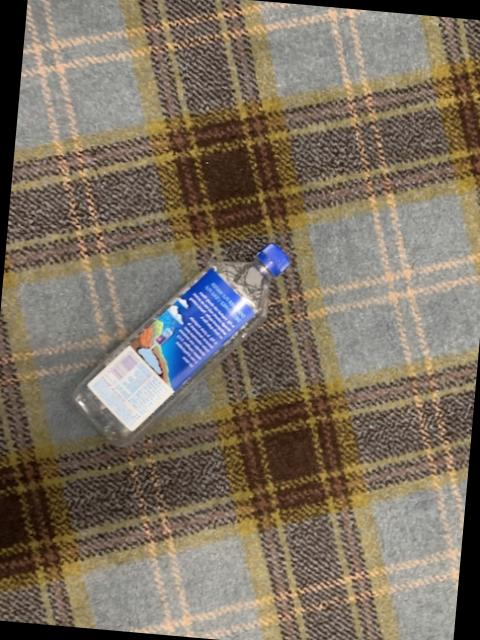plastic: (76, 242, 290, 444)
